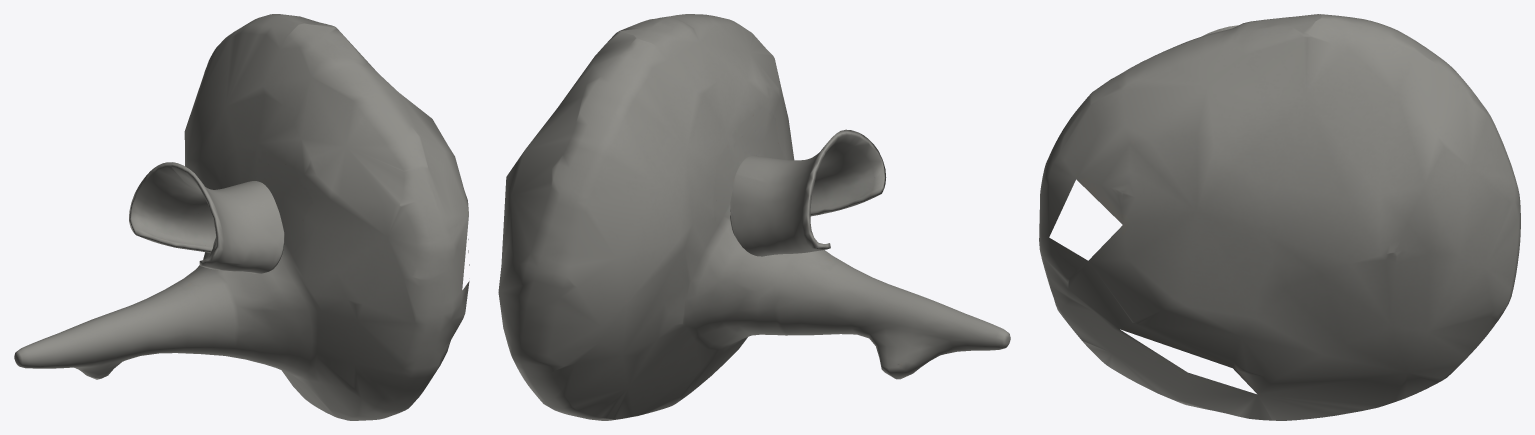
The model's file is stone.glb.
The picture shows the model from 3 angles, left to right: view 1: azimuth 30°, elevation 25°; view 2: azimuth 150°, elevation 25°; view 3: azimuth 270°, elevation 25°; orthographic projection. The views are drawn at different scales.
Visible parts, largest first — view 1: tripo_node_e4a2b456-e990-4638-97a1-3e85e2dee4e6; view 2: tripo_node_e4a2b456-e990-4638-97a1-3e85e2dee4e6; view 3: tripo_node_e4a2b456-e990-4638-97a1-3e85e2dee4e6.
Part boxes in pixels (bbox=[...]): tripo_node_e4a2b456-e990-4638-97a1-3e85e2dee4e6: bbox=[14, 14, 469, 420]; tripo_node_e4a2b456-e990-4638-97a1-3e85e2dee4e6: bbox=[498, 14, 1010, 420]; tripo_node_e4a2b456-e990-4638-97a1-3e85e2dee4e6: bbox=[1039, 14, 1520, 420].
Size of the model in its own units: 0.9995 by 0.8472 by 0.9321.
Materials: 1 (1 with a texture image).
